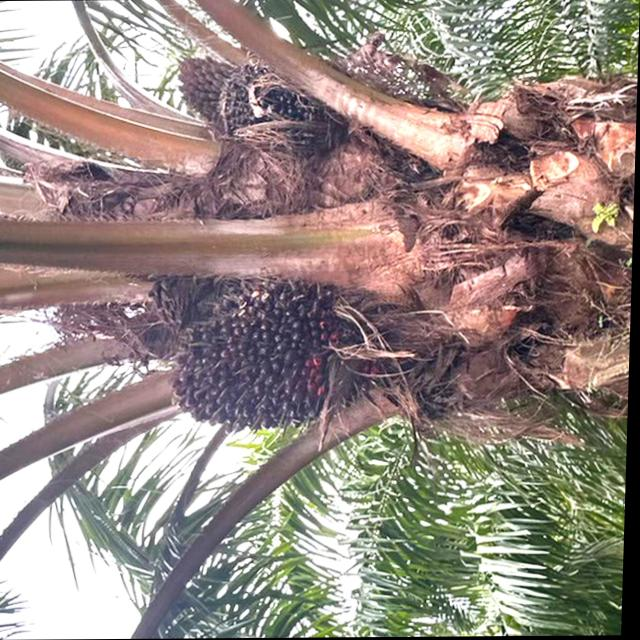ripe: (162, 258, 402, 453)
